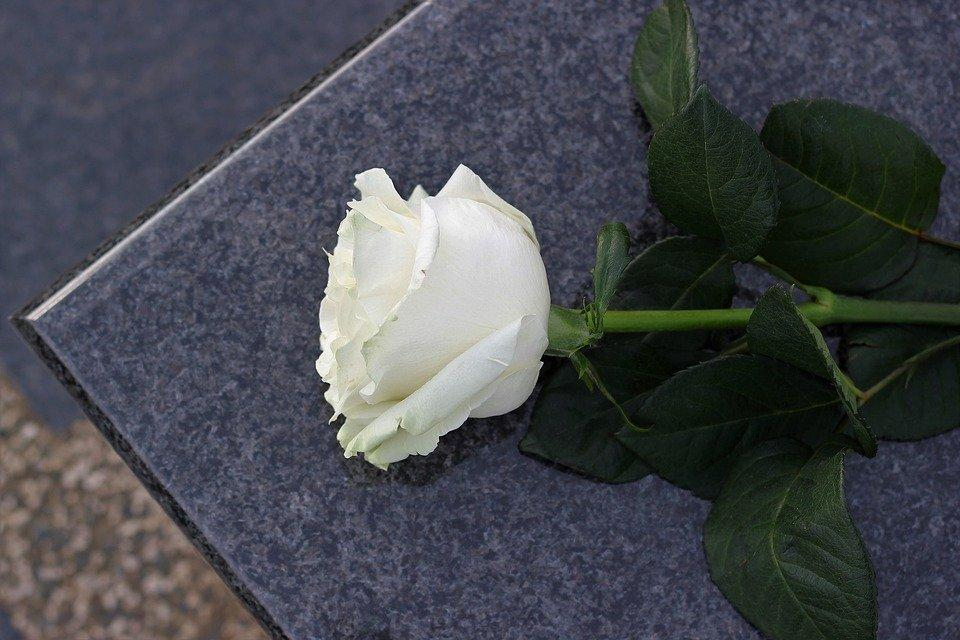Rose: (295, 150, 561, 492)
